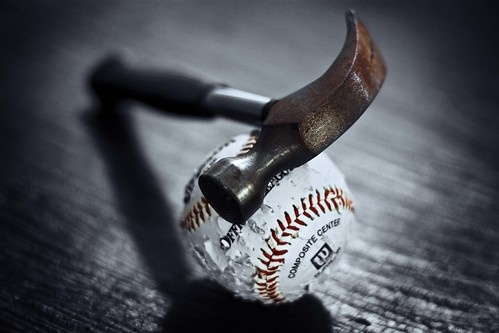hammer: (79, 14, 389, 224)
